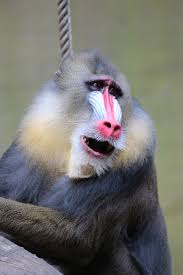Mandrill: (27, 51, 162, 267)
